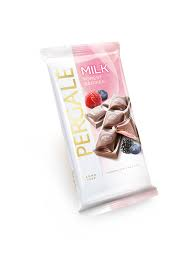Chocolate: (40, 43, 161, 210)
